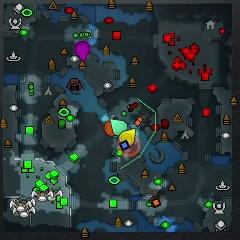Other: (117, 137, 141, 156)
p2: (110, 118, 129, 137)
p3: (75, 41, 91, 61)
p4: (118, 129, 136, 148)
p5: (104, 120, 116, 138)
